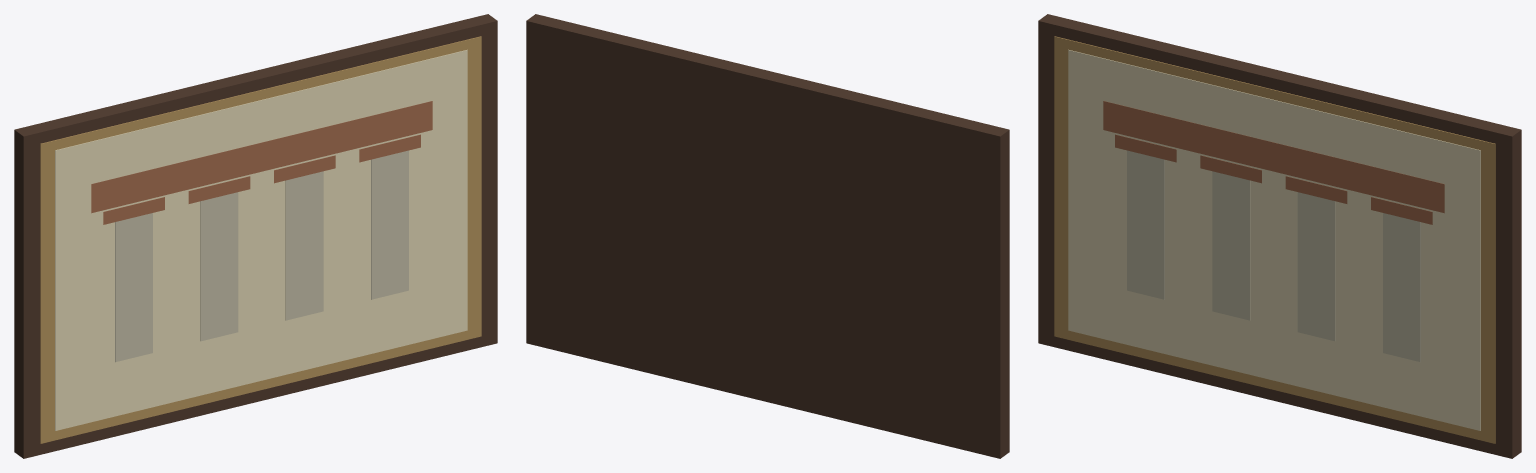
File: LP_GreeceRome_WallGraphic.fbx
The picture shows the model from 3 angles, left to right: view 1: azimuth 30°, elevation 25°; view 2: azimuth 150°, elevation 25°; view 3: azimuth 330°, elevation 25°; orthographic projection.
Visible parts, largest first — view 1: WarmIvory, Walnut, M_Central_Limestone, AgedBrass, Terracotta; view 2: Walnut; view 3: WarmIvory, Walnut, M_Central_Limestone, AgedBrass, Terracotta.
Boxes of the visible parts, x1,y1,x2,y2 form: WarmIvory: (55,49,467,430); Walnut: (14,14,497,458); M_Central_Limestone: (115,150,408,362); AgedBrass: (40,36,481,443); Terracotta: (91,101,432,224); Walnut: (526,14,1009,458); WarmIvory: (1068,49,1480,430); Walnut: (1038,14,1521,458); M_Central_Limestone: (1127,150,1420,362); AgedBrass: (1054,36,1495,443); Terracotta: (1103,101,1444,224).
Bounding box in the file's own units: 200 × 130 × 8.
